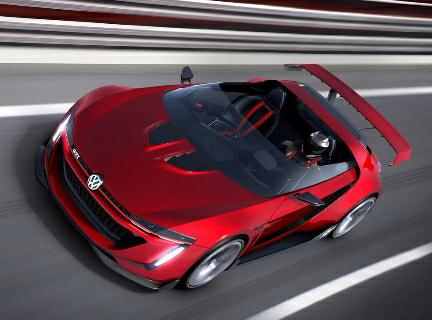大众-夏朗: (36, 65, 415, 297)
